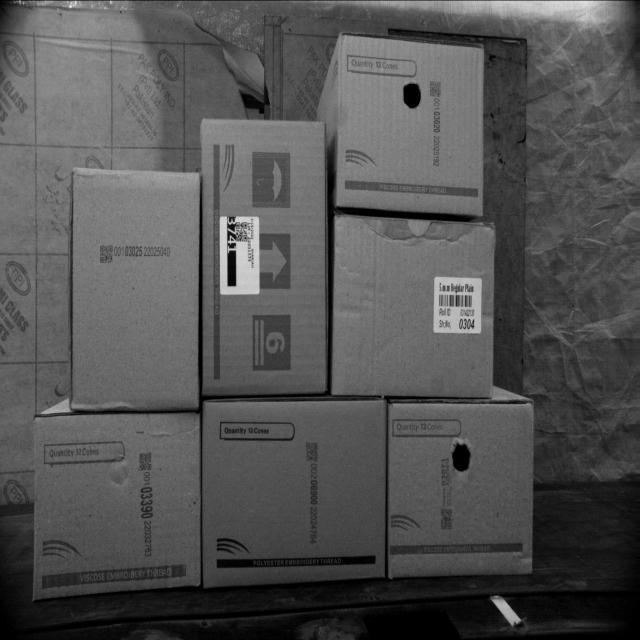box: (201, 114, 328, 398), (201, 400, 385, 590), (68, 168, 198, 410), (31, 412, 200, 592), (333, 216, 494, 397), (337, 34, 487, 220), (388, 398, 532, 572)
